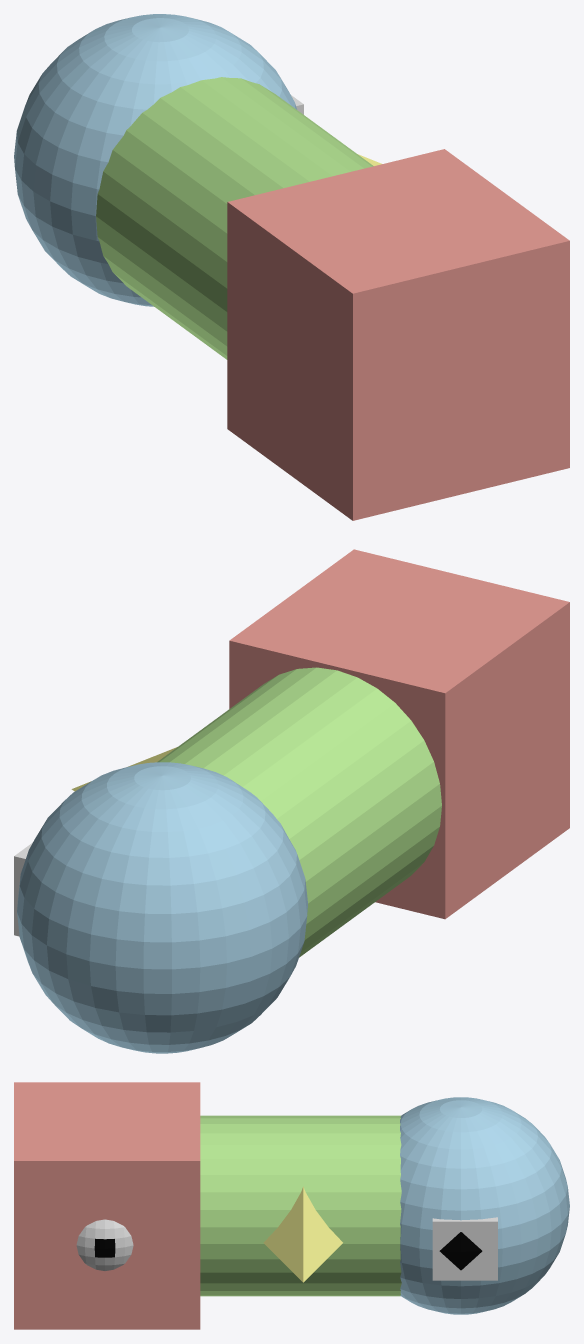
The model's file is cabeza-amebaPlayer.glb.
3 renders of one model, top to bottom at view 1: azimuth 30°, elevation 25°; view 2: azimuth 150°, elevation 25°; view 3: azimuth 270°, elevation 25°, orthographic. The views are drawn at different scales.
Visible parts, largest first — view 1: Cube, Cylinder, Sphere; view 2: Sphere, Cube, Cylinder; view 3: Cube, Cylinder, Sphere, Cone, Cube.001, Sphere.001.
Boxes of the visible parts, <box> form: Cube: <box>227,149,569,520</box>; Cylinder: <box>96,77,373,359</box>; Sphere: <box>14,14,297,306</box>; Sphere: <box>17,762,307,1053</box>; Cube: <box>229,549,569,919</box>; Cylinder: <box>157,667,441,957</box>; Cube: <box>14,1082,200,1329</box>; Cylinder: <box>200,1115,401,1296</box>; Sphere: <box>400,1097,569,1314</box>; Cone: <box>263,1186,342,1282</box>; Cube.001: <box>432,1217,497,1280</box>; Sphere.001: <box>76,1219,133,1270</box>.
Bounding box in the file's own units: 2.56 × 2 × 5.1.
